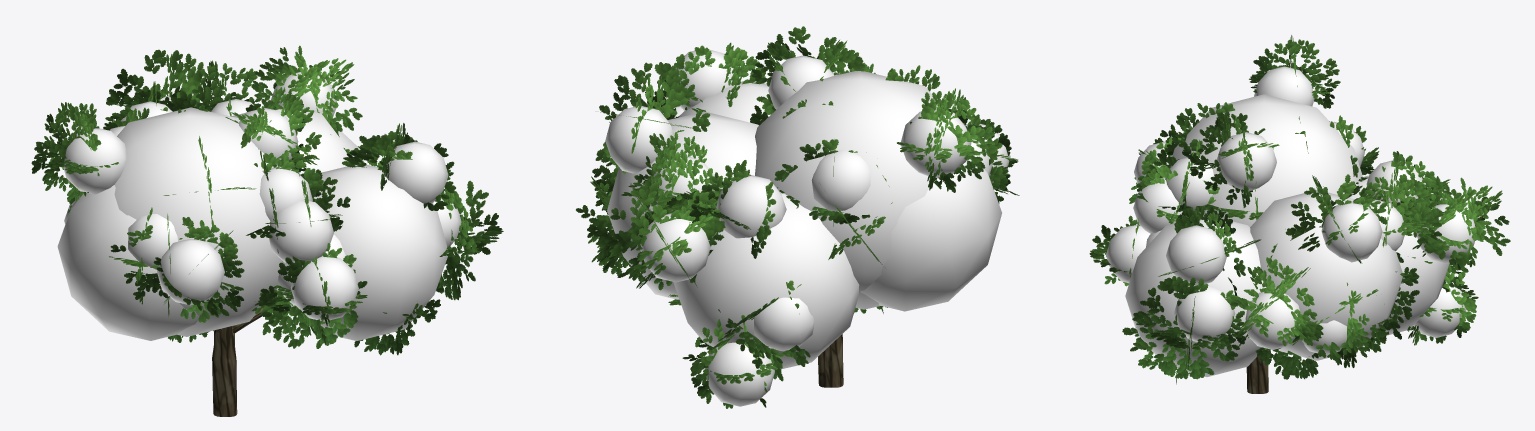
File: bush_wild.gltf
The picture shows the model from 3 angles, left to right: view 1: azimuth 30°, elevation 25°; view 2: azimuth 150°, elevation 25°; view 3: azimuth 270°, elevation 25°; orthographic projection. The views are drawn at different scales.
Visible parts, largest first — view 1: bush_wild_shadow_LOD0, bush_wild_leaves_LOD0, bush_wild_trunk_LOD0; view 2: bush_wild_shadow_LOD0, bush_wild_leaves_LOD0, bush_wild_trunk_LOD0; view 3: bush_wild_shadow_LOD0, bush_wild_leaves_LOD0, bush_wild_trunk_LOD0.
Part boxes in pixels (bbox=[...]): bush_wild_shadow_LOD0: bbox=[57, 71, 461, 340]; bush_wild_leaves_LOD0: bbox=[31, 45, 503, 355]; bush_wild_trunk_LOD0: bbox=[212, 304, 275, 416]; bush_wild_shadow_LOD0: bbox=[605, 49, 1010, 406]; bush_wild_leaves_LOD0: bbox=[576, 26, 1019, 408]; bush_wild_trunk_LOD0: bbox=[818, 334, 843, 387]; bush_wild_shadow_LOD0: bbox=[1106, 66, 1475, 376]; bush_wild_leaves_LOD0: bbox=[1089, 35, 1510, 384]; bush_wild_trunk_LOD0: bbox=[1246, 356, 1268, 393].
Size of what is drawn, in the model's own units: 2.56 by 1.83 by 2.5.
3 materials, 2 textured.
